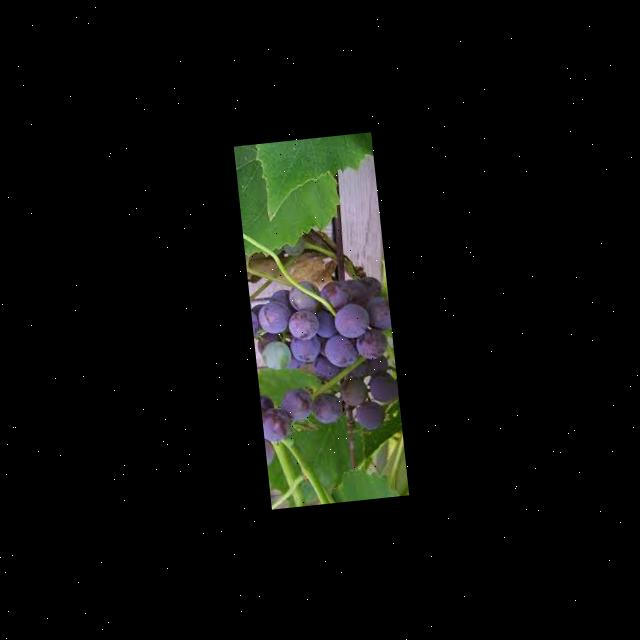grape: (254, 270, 386, 375)
